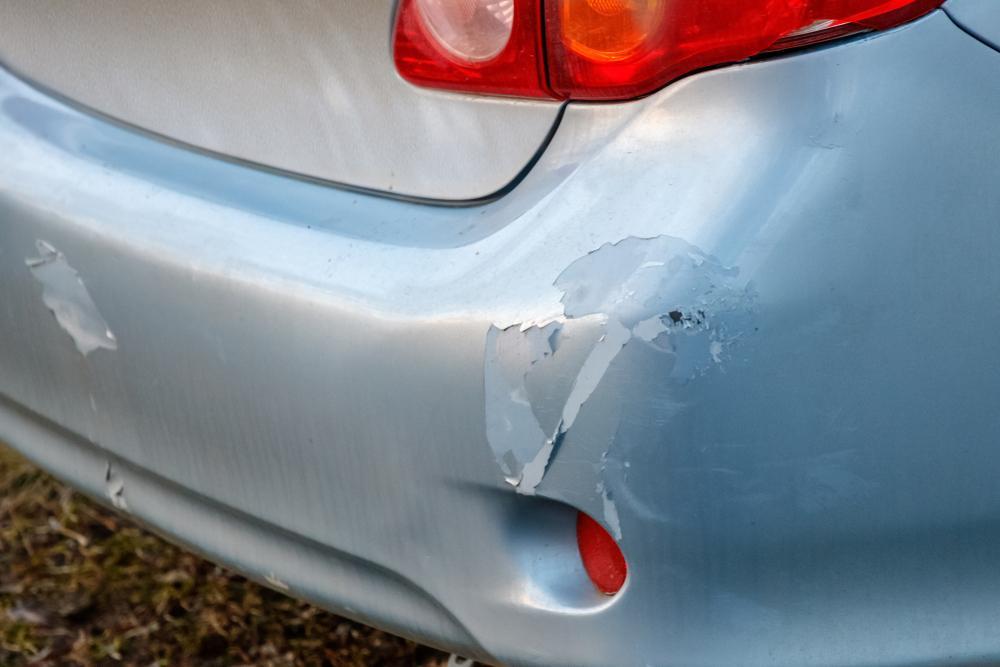scratch: (471, 230, 774, 531)
